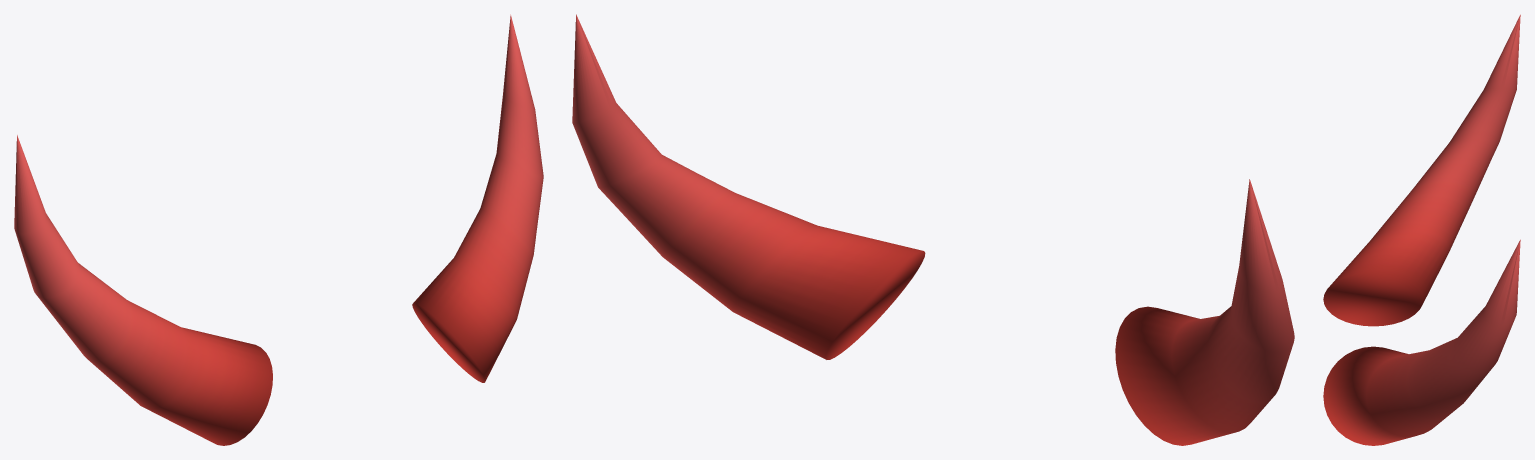
File: Horns.fbx
3 views of the same model, side by side, from view 1: azimuth 30°, elevation 25°; view 2: azimuth 150°, elevation 25°; view 3: azimuth 270°, elevation 25° (orthographic). The views are drawn at different scales.
Visible parts, largest first — view 1: Horns; view 2: Horns; view 3: Horns.
Boxes of the visible parts, bbox=[...] form: Horns: bbox=[14, 14, 543, 445]; Horns: bbox=[572, 14, 1294, 445]; Horns: bbox=[1323, 14, 1520, 445].
Size of the model in its own units: 388 by 138 by 200.
